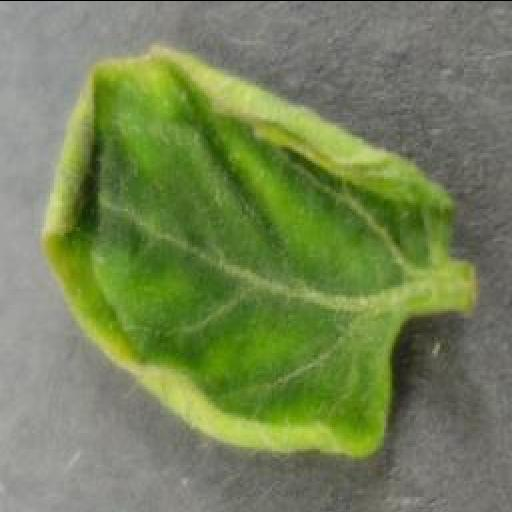disease_tomato: (37, 48, 459, 458)
